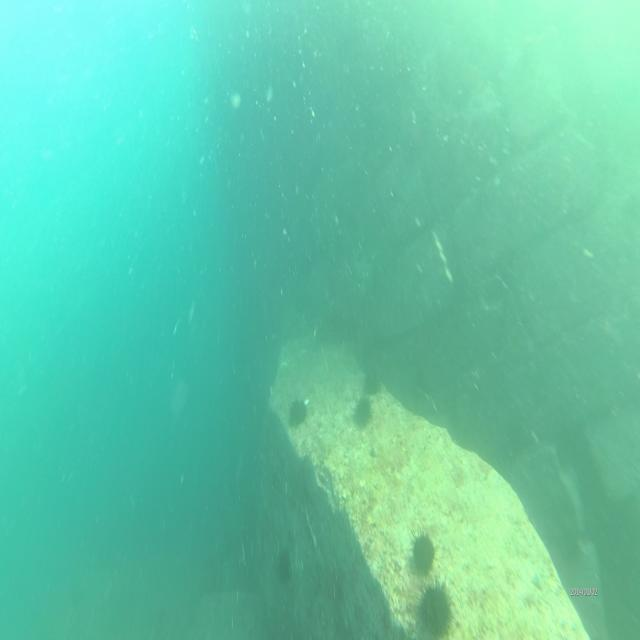echinus: (418, 578, 454, 637), (409, 532, 438, 571), (287, 396, 305, 430), (276, 548, 291, 581), (360, 372, 380, 394), (354, 400, 370, 425)
